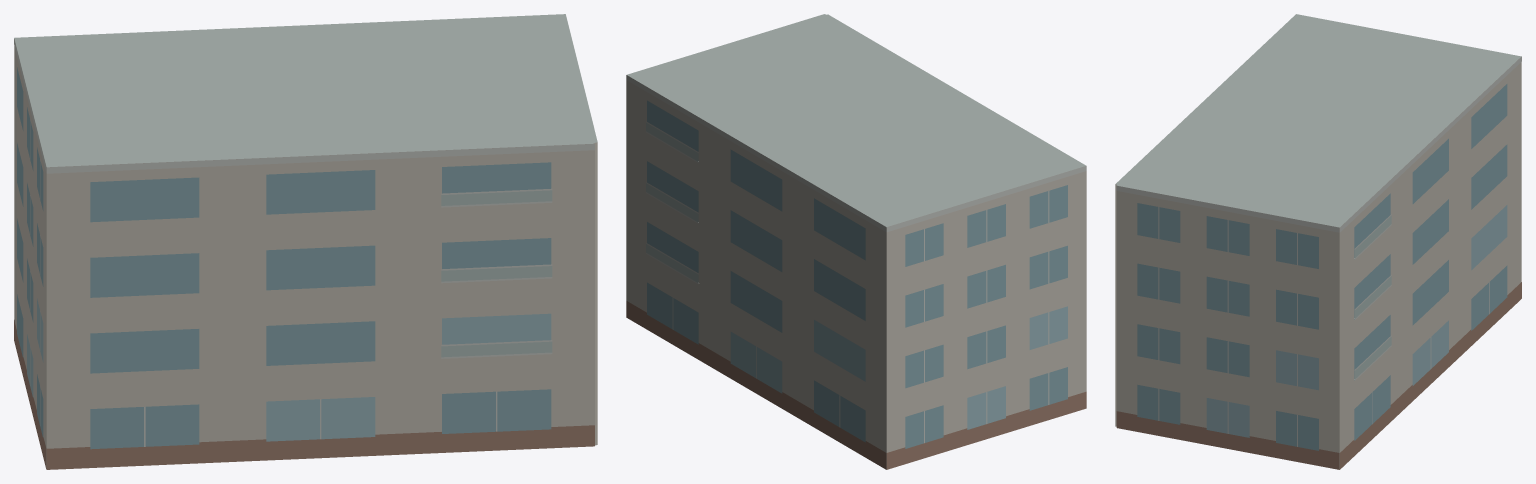
Rendered from survey-upis-32918023.glb.
3 renders of one model, left to right at view 1: azimuth 30°, elevation 25°; view 2: azimuth 150°, elevation 25°; view 3: azimuth 270°, elevation 25°, orthographic. The views are drawn at different scales.
Visible parts, largest first — view 1: survey-upis-32918023.tmp; view 2: survey-upis-32918023.tmp; view 3: survey-upis-32918023.tmp.
Boxes of the visible parts, x1,y1,x2,y2 form: survey-upis-32918023.tmp: [14, 14, 597, 469]; survey-upis-32918023.tmp: [626, 14, 1086, 469]; survey-upis-32918023.tmp: [1115, 14, 1521, 469].
Bounding box in the file's own units: 21.46 × 11.35 × 17.26.
